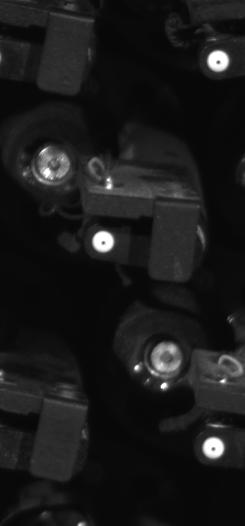fiber: (199, 45, 233, 78), (88, 223, 120, 257), (199, 433, 230, 464)
